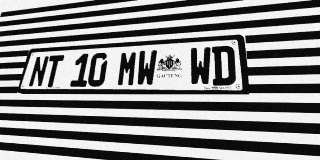0: (86, 52, 108, 87)
1: (70, 53, 92, 87)
D: (212, 45, 236, 86)
M: (116, 51, 138, 86)
N: (28, 56, 49, 87)
T: (42, 55, 64, 87)
W: (189, 47, 211, 86), (135, 50, 157, 86)
